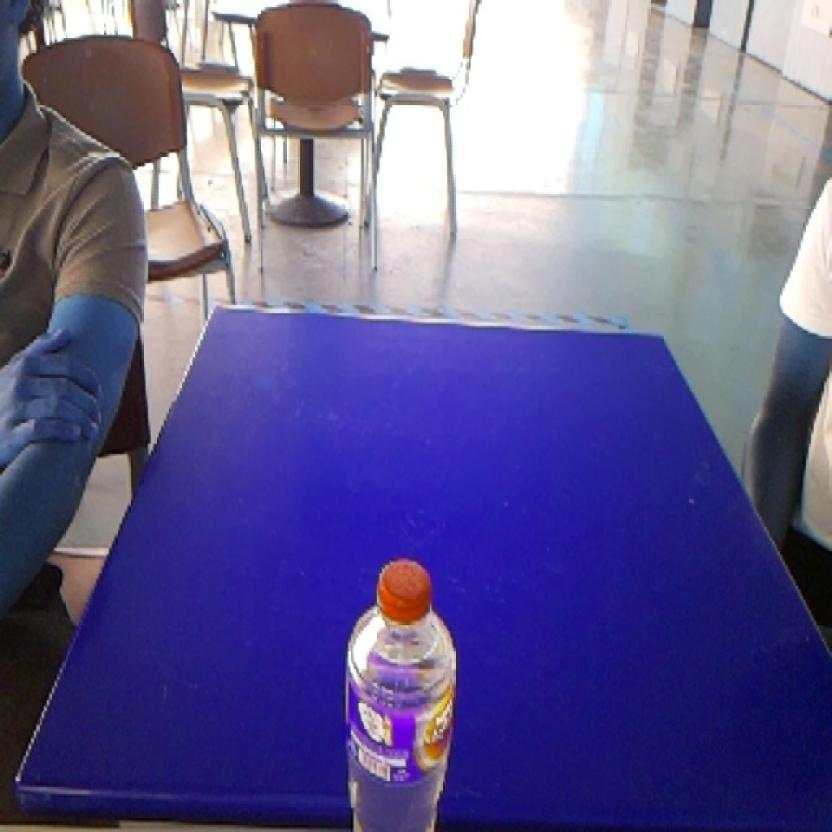good: (326, 536, 466, 832)
